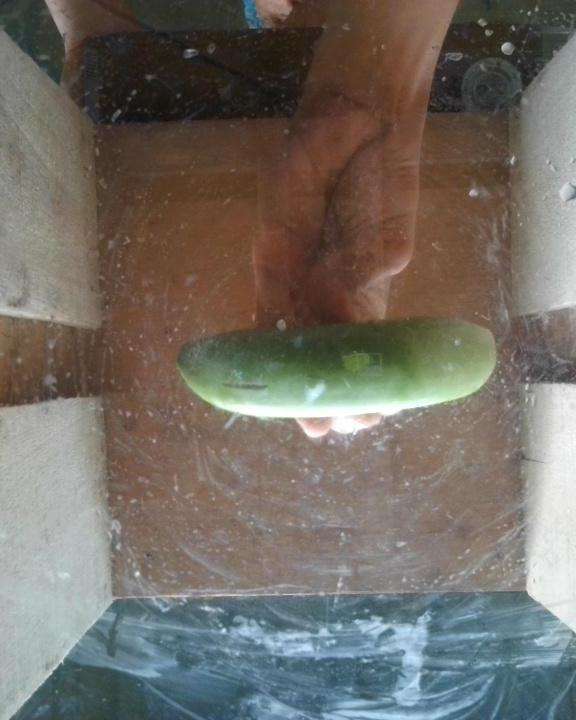CLASS B: (176, 322, 501, 426)
Class A: (220, 376, 281, 401)
